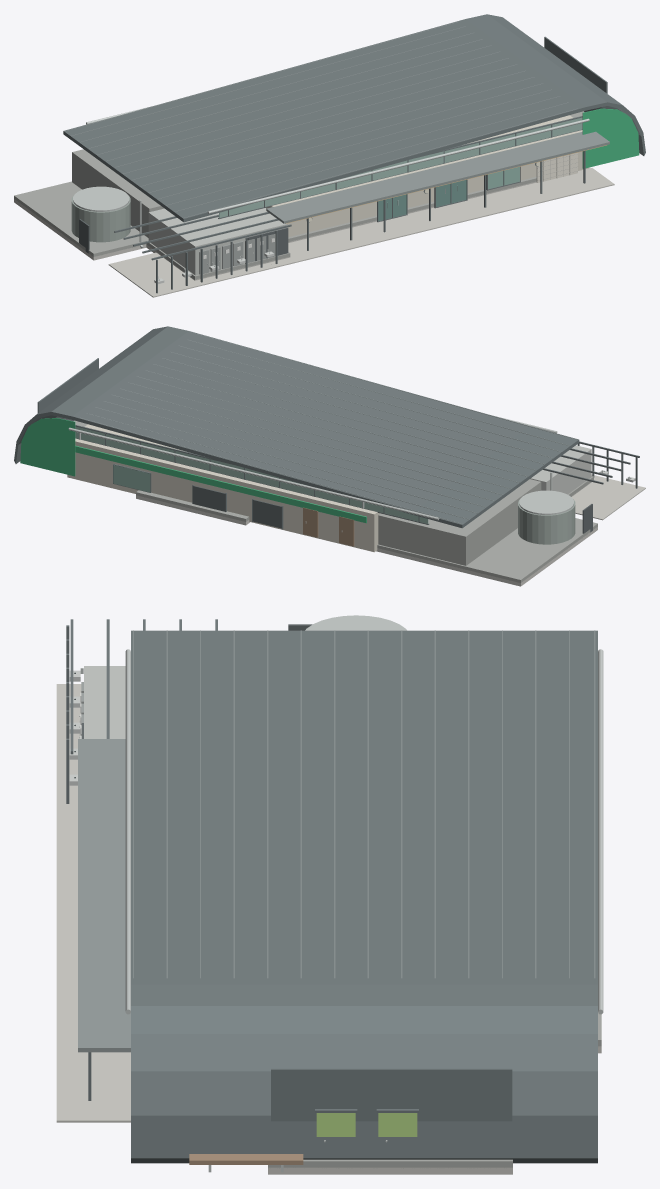
Rendered from edinburgh-gardens-alfred-crescent-pavilion.glb.
The picture shows the model from 3 angles, top to bottom: view 1: azimuth 30°, elevation 25°; view 2: azimuth 150°, elevation 25°; view 3: azimuth 270°, elevation 25°; orthographic projection. The views are drawn at different scales.
Visible parts, largest first — view 1: Alfred Crescent Pavilion optimized runtime mesh; view 2: Alfred Crescent Pavilion optimized runtime mesh; view 3: Alfred Crescent Pavilion optimized runtime mesh.
Part boxes in pixels (x1,y1,x2,y2): Alfred Crescent Pavilion optimized runtime mesh: (14, 14, 645, 297); Alfred Crescent Pavilion optimized runtime mesh: (14, 326, 645, 586); Alfred Crescent Pavilion optimized runtime mesh: (56, 615, 603, 1174).
Bounding box in the file's own units: 43.77 × 5.42 × 20.39.
